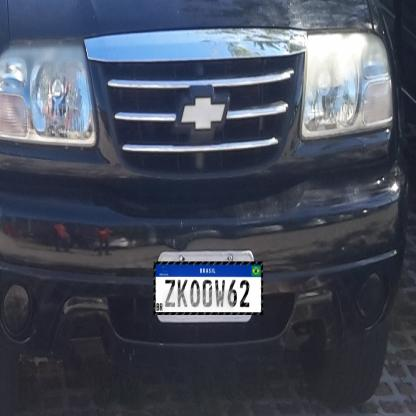PlacaM: (154, 261, 263, 315)
